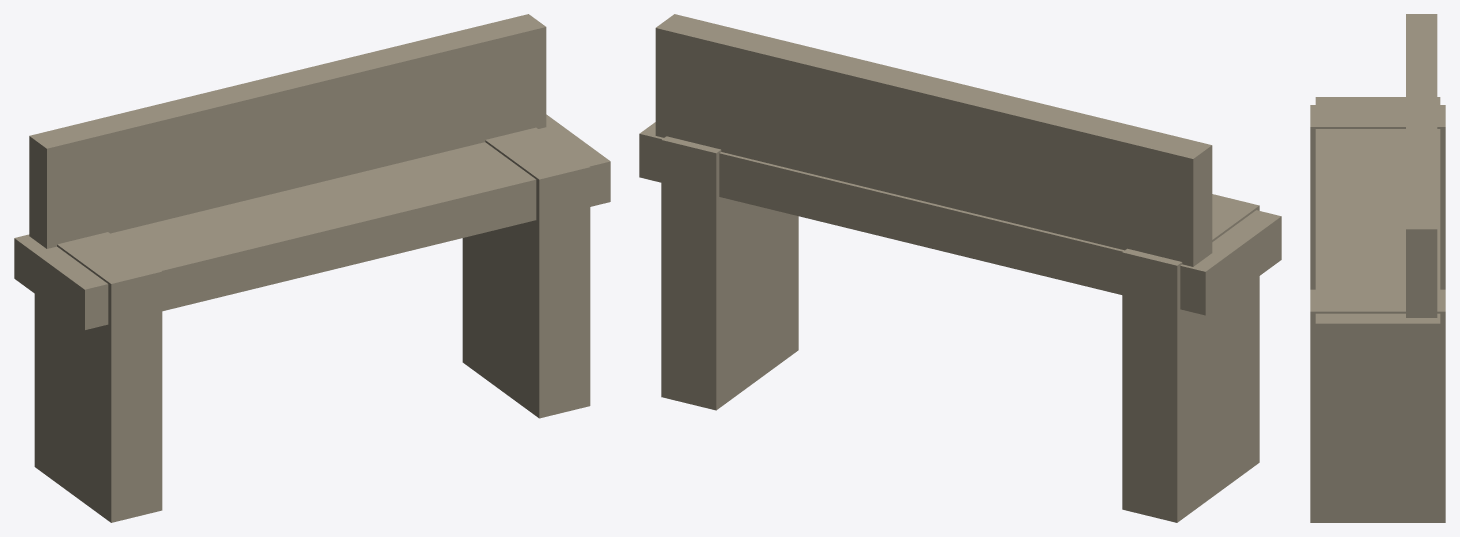
File: 099_stone_wayside_bench.glb
The picture shows the model from 3 angles, left to right: view 1: azimuth 30°, elevation 25°; view 2: azimuth 150°, elevation 25°; view 3: azimuth 270°, elevation 25°; orthographic projection. The views are drawn at different scales.
Parts seen in each view (by area): view 1: Stone wayside bench; view 2: Stone wayside bench; view 3: Stone wayside bench.
Boxes of the visible parts, <box> form: Stone wayside bench: <box>14,14,610,522</box>; Stone wayside bench: <box>639,14,1281,522</box>; Stone wayside bench: <box>1310,14,1445,522</box>.
Size of the model in its own units: 2.58 by 1.58 by 0.65.
